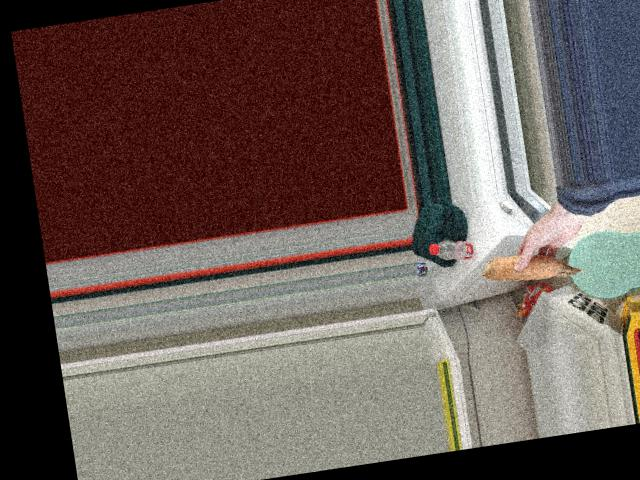sweet_potato: (487, 246, 583, 287)
